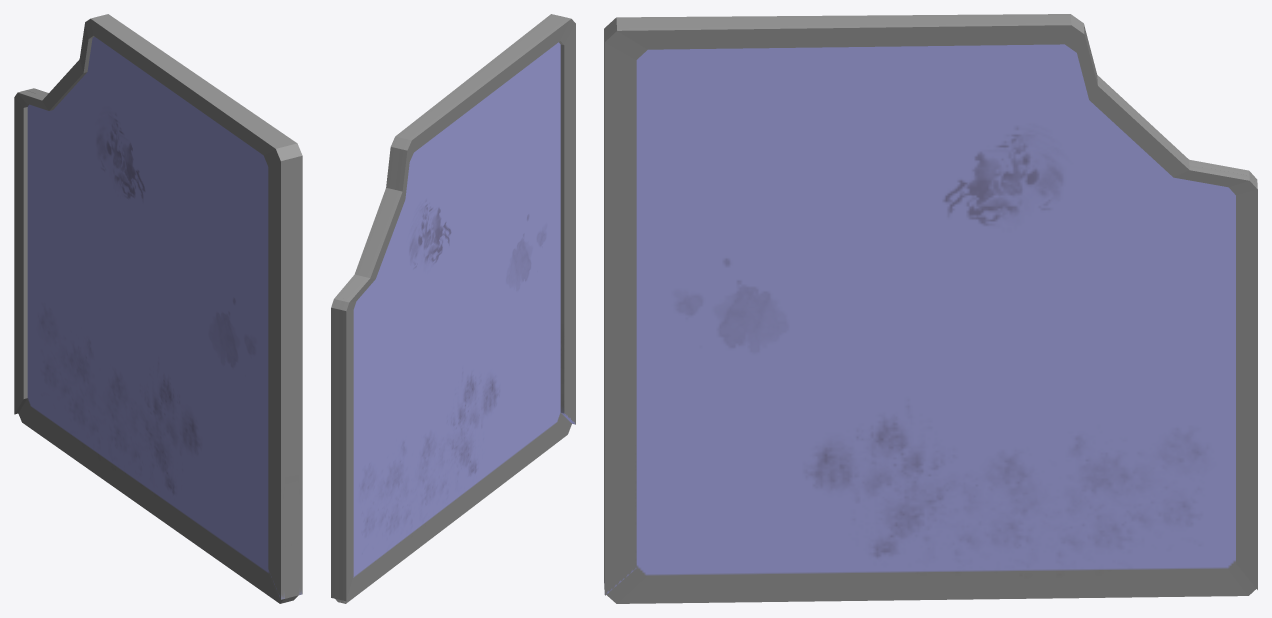
File: peregorodka.fbx
The picture shows the model from 3 angles, left to right: view 1: azimuth 30°, elevation 25°; view 2: azimuth 150°, elevation 25°; view 3: azimuth 270°, elevation 25°; orthographic projection. The views are drawn at different scales.
Visible parts, largest first — view 1: Куб.016; view 2: Куб.016; view 3: Куб.016.
Part boxes in pixels (x1=…): Куб.016: x1=14, y1=14, x2=302, y2=603; Куб.016: x1=331, y1=14, x2=575, y2=603; Куб.016: x1=604, y1=14, x2=1257, y2=603.
Bounding box in the file's own units: 7.37 × 107 × 111.
